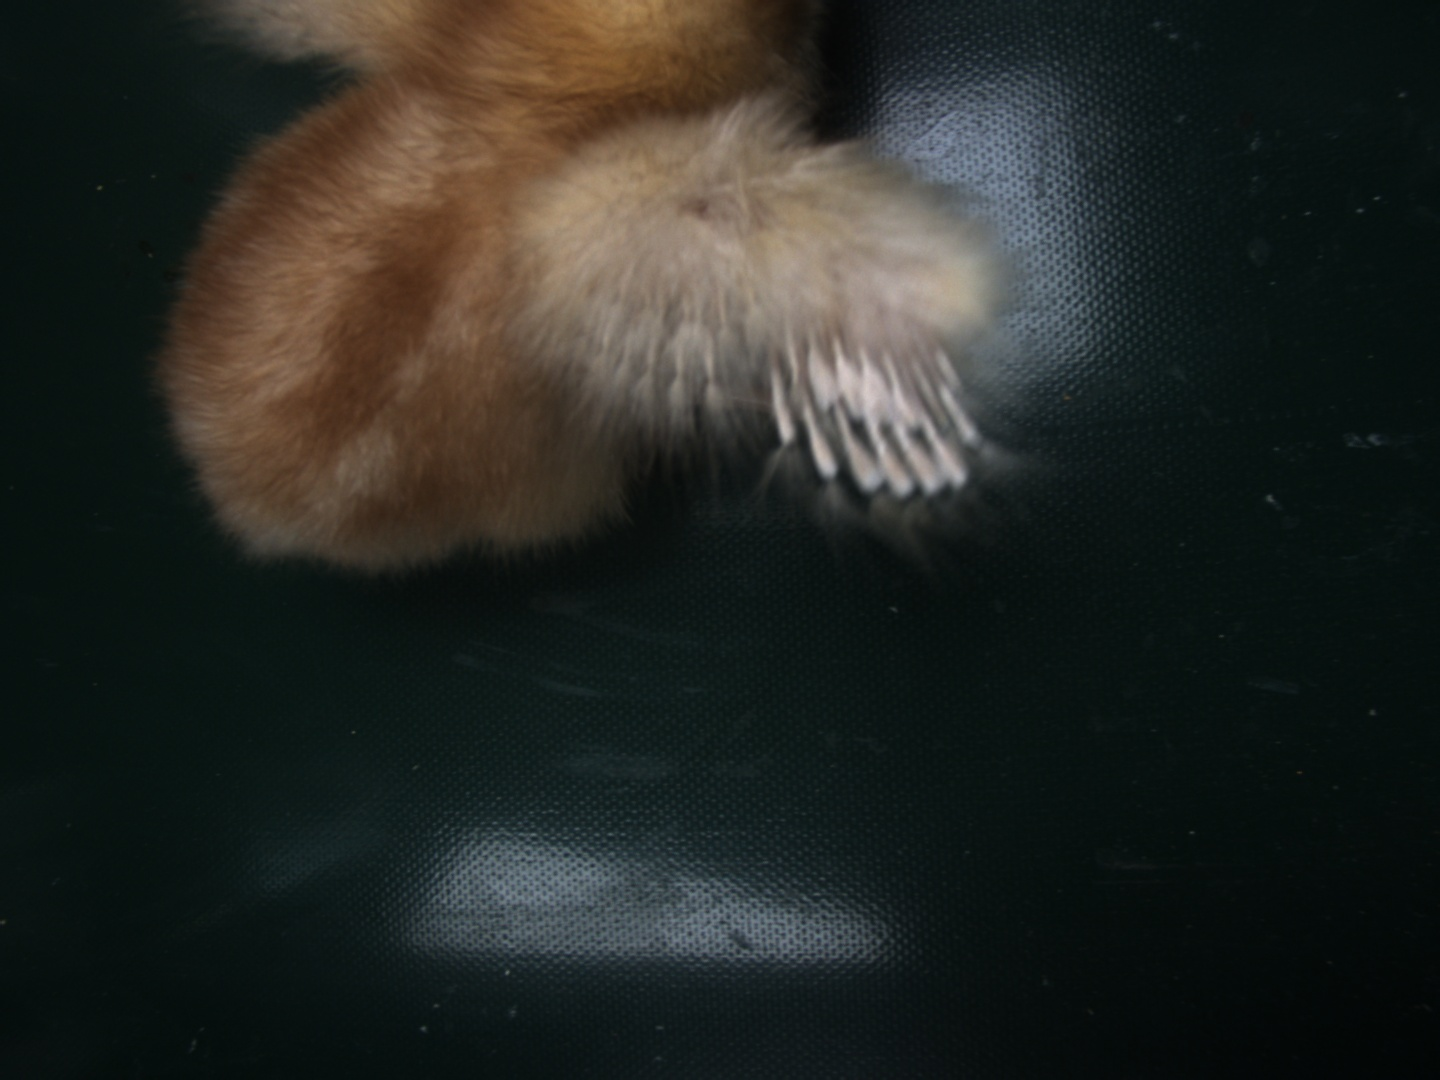female: (768, 326, 991, 503)
